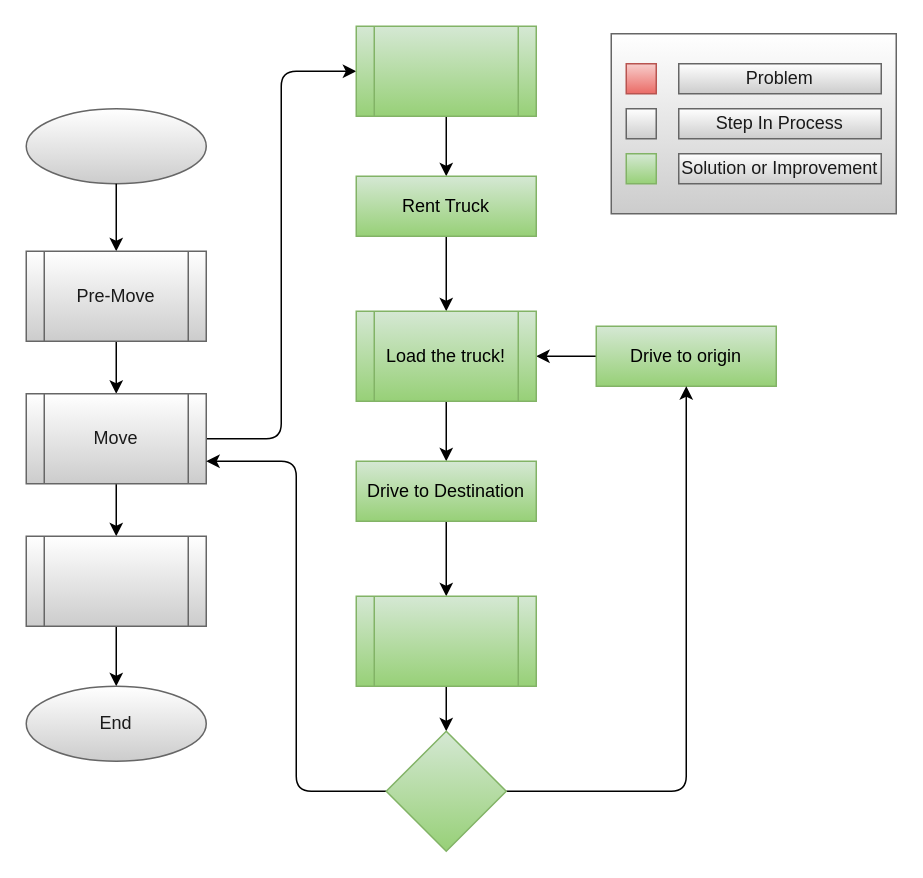
Image size: 923x878. Some labels were removed from this diagram. Each missing label, with the centre of its shape:
"Get Truck size estimates" belongs at pixel 445 70.
"Is that everything?" belongs at pixel 445 790.
"Post Move" belongs at pixel 115 580.
"Start" belongs at pixel 115 145.
"Unload the truck" belongs at pixel 445 640.
